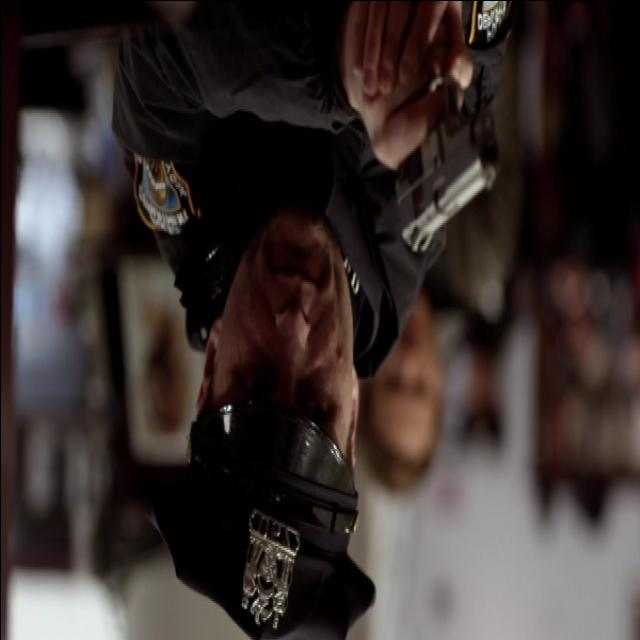weapons: (378, 0, 514, 266)
